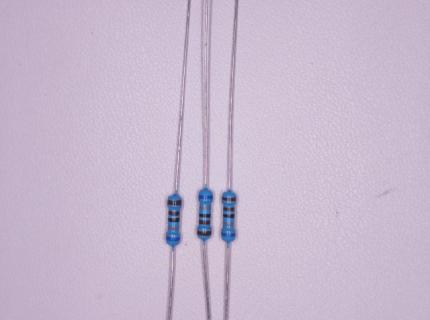Black band: (199, 213, 211, 218), (168, 217, 180, 222), (223, 213, 234, 218)
Blue band: (221, 232, 236, 237), (166, 237, 181, 241), (198, 195, 213, 199)
Brown band: (167, 200, 182, 206), (197, 231, 212, 236), (222, 197, 237, 202), (168, 211, 180, 216), (199, 220, 211, 225), (223, 207, 235, 211)
Grey band: (223, 222, 234, 227), (199, 206, 211, 210), (168, 226, 179, 230)
